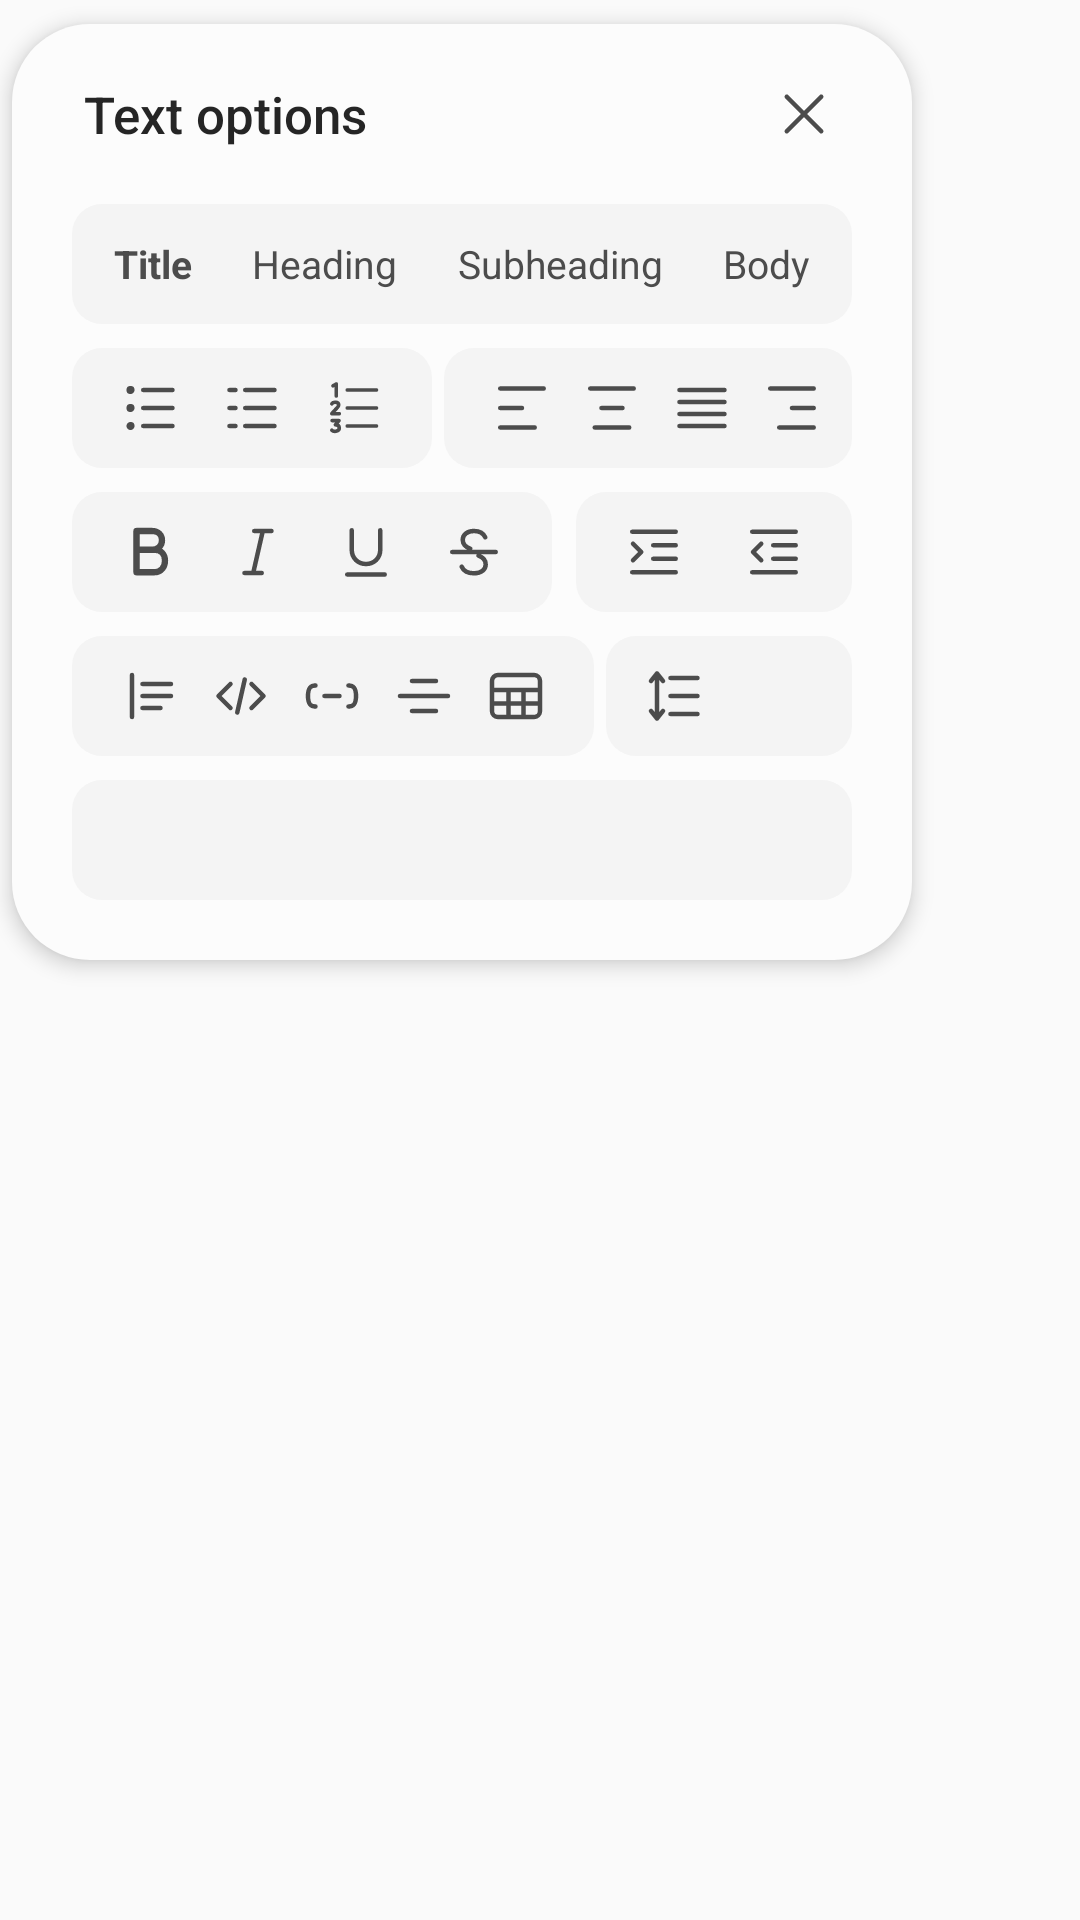

Where to tap for icons on this 1080px x 1920px app screen, as point (x, y):
Align text to center: point (612, 408)
Align text to left: point (522, 408)
Align text to right: point (792, 408)
Block quote: point (151, 696)
Bold: point (150, 551)
Bullet points: point (150, 408)
Close: point (804, 114)
Code block: point (241, 696)
Dashed list: point (252, 408)
Indent: point (654, 552)
Inline code: point (332, 696)
Italic: point (258, 552)
Justify: point (702, 408)
line spacing: point (674, 696)
Numbered list: point (354, 408)
Outdent: point (774, 552)
Strikethrough: point (474, 552)
Table: point (516, 696)
Underline: point (366, 552)
